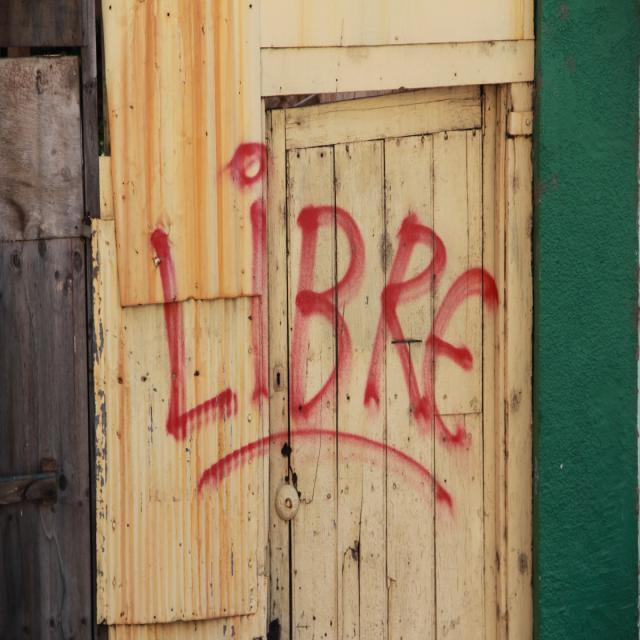-: (153, 142, 502, 520)
